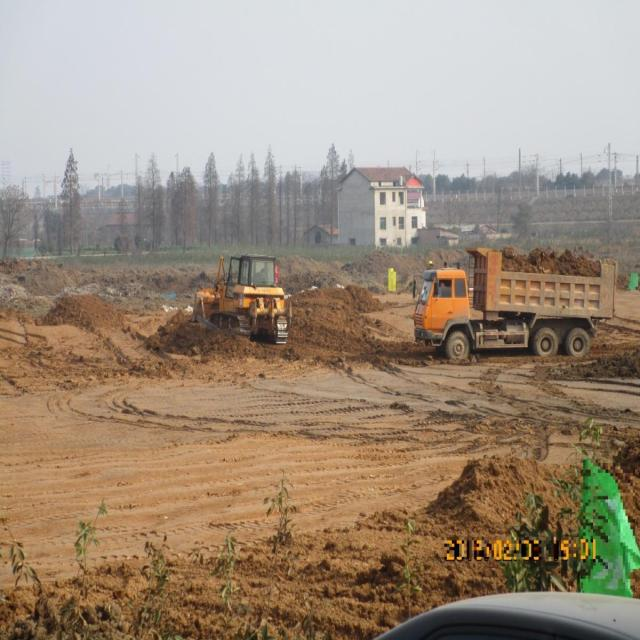machinery: (187, 243, 295, 351)
truck: (401, 234, 619, 365)
